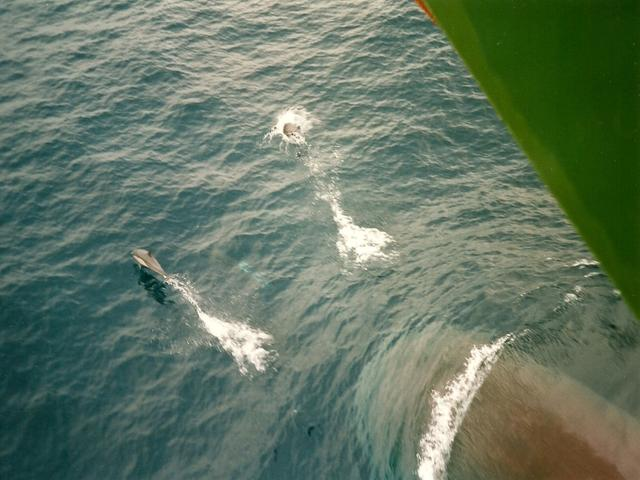dolphin: (98, 223, 238, 340)
